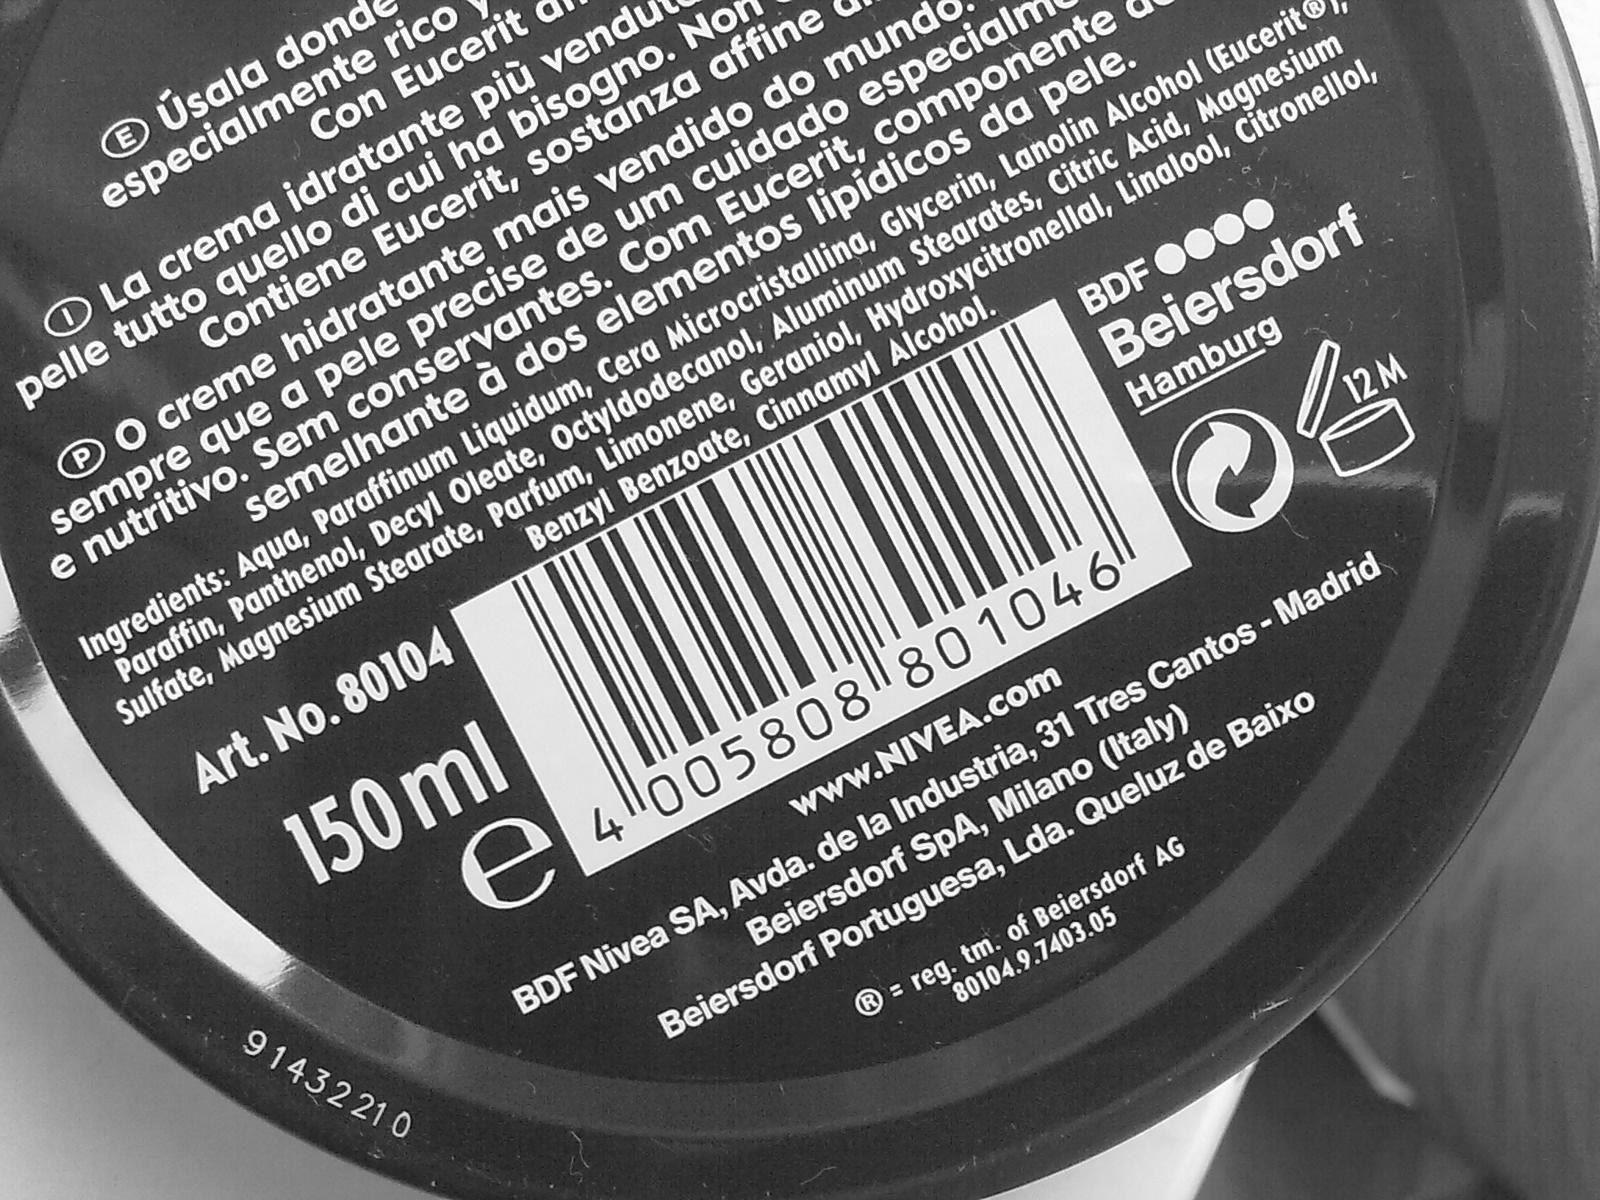Barcode: (467, 286, 1201, 797)
